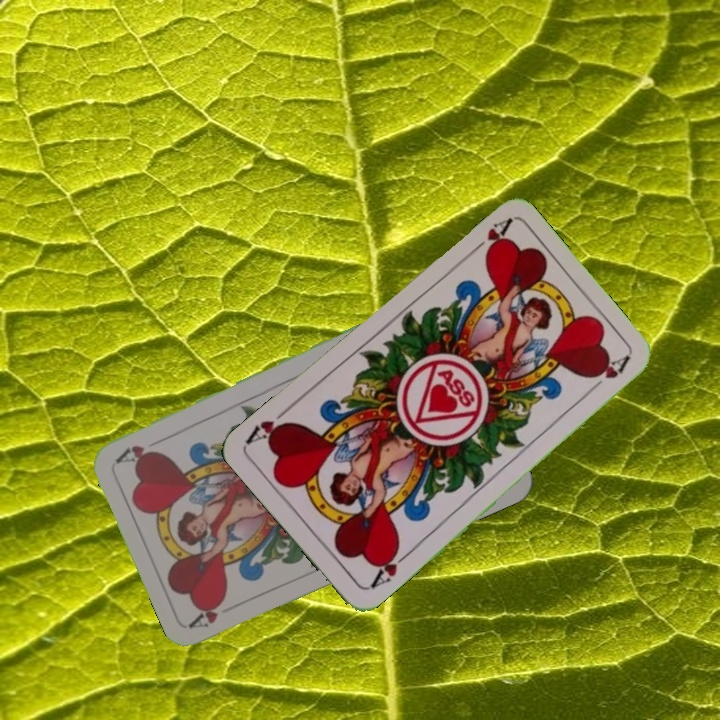HA: (365, 542, 413, 591), (464, 215, 513, 260), (187, 594, 244, 631)
